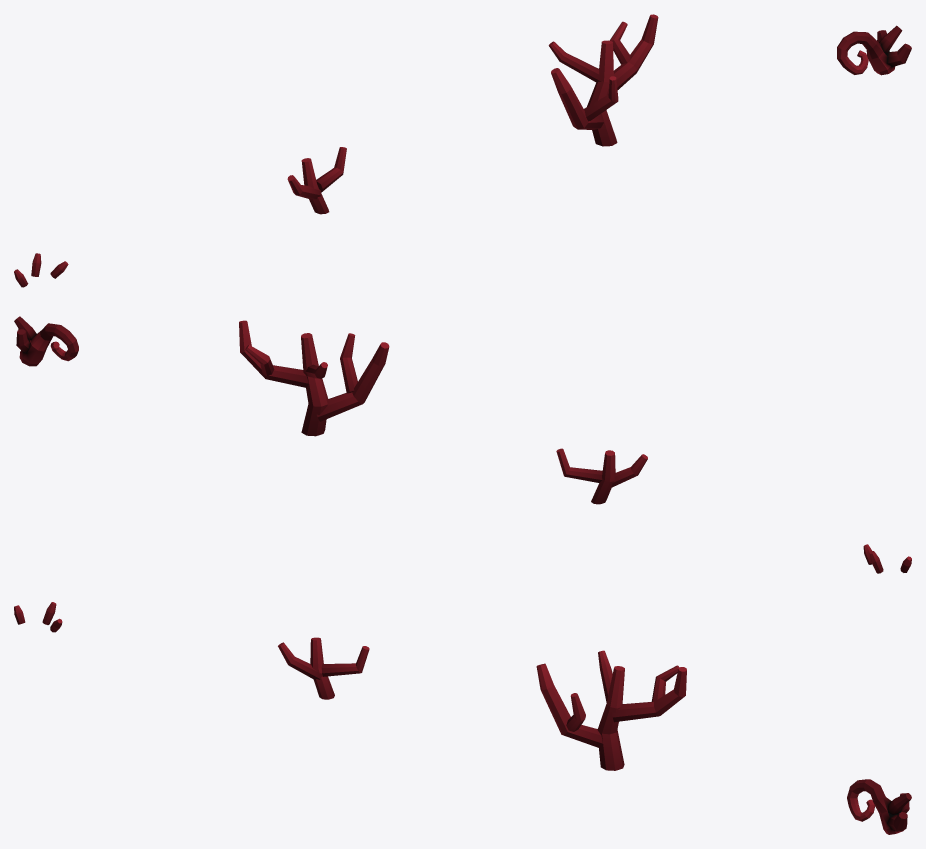
The picture shows the model from 3 angles, top to bottom: view 1: azimuth 30°, elevation 25°; view 2: azimuth 150°, elevation 25°; view 3: azimuth 330°, elevation 25°; orthographic projection.
Visible parts, largest first — view 1: O_3, O_4, O_2; view 2: O_3, O_4, O_2; view 3: O_3, O_4, O_2.
Boxes of the visible parts, left/top/right/bottom form: O_3: left=548, top=14, right=658, bottom=146; O_4: left=837, top=25, right=911, bottom=75; O_2: left=287, top=147, right=346, bottom=214; O_3: left=239, top=320, right=389, bottom=436; O_4: left=14, top=316, right=78, bottom=366; O_2: left=556, top=448, right=647, bottom=504; O_3: left=536, top=650, right=686, bottom=770; O_4: left=847, top=779, right=911, bottom=834; O_2: left=278, top=637, right=369, bottom=699.
Size of the model in its own units: 316 by 35 by 30.31.
